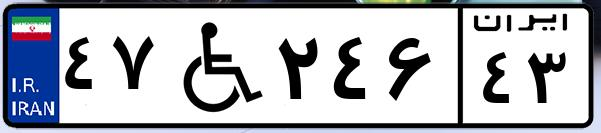2: (270, 28, 330, 110)
3: (525, 38, 570, 115)
4: (330, 28, 385, 110), (57, 26, 110, 100), (475, 38, 525, 113)
6: (385, 28, 445, 110)
7: (110, 28, 158, 98)
ژ (معلولین و جانبازان): (158, 12, 270, 120)
